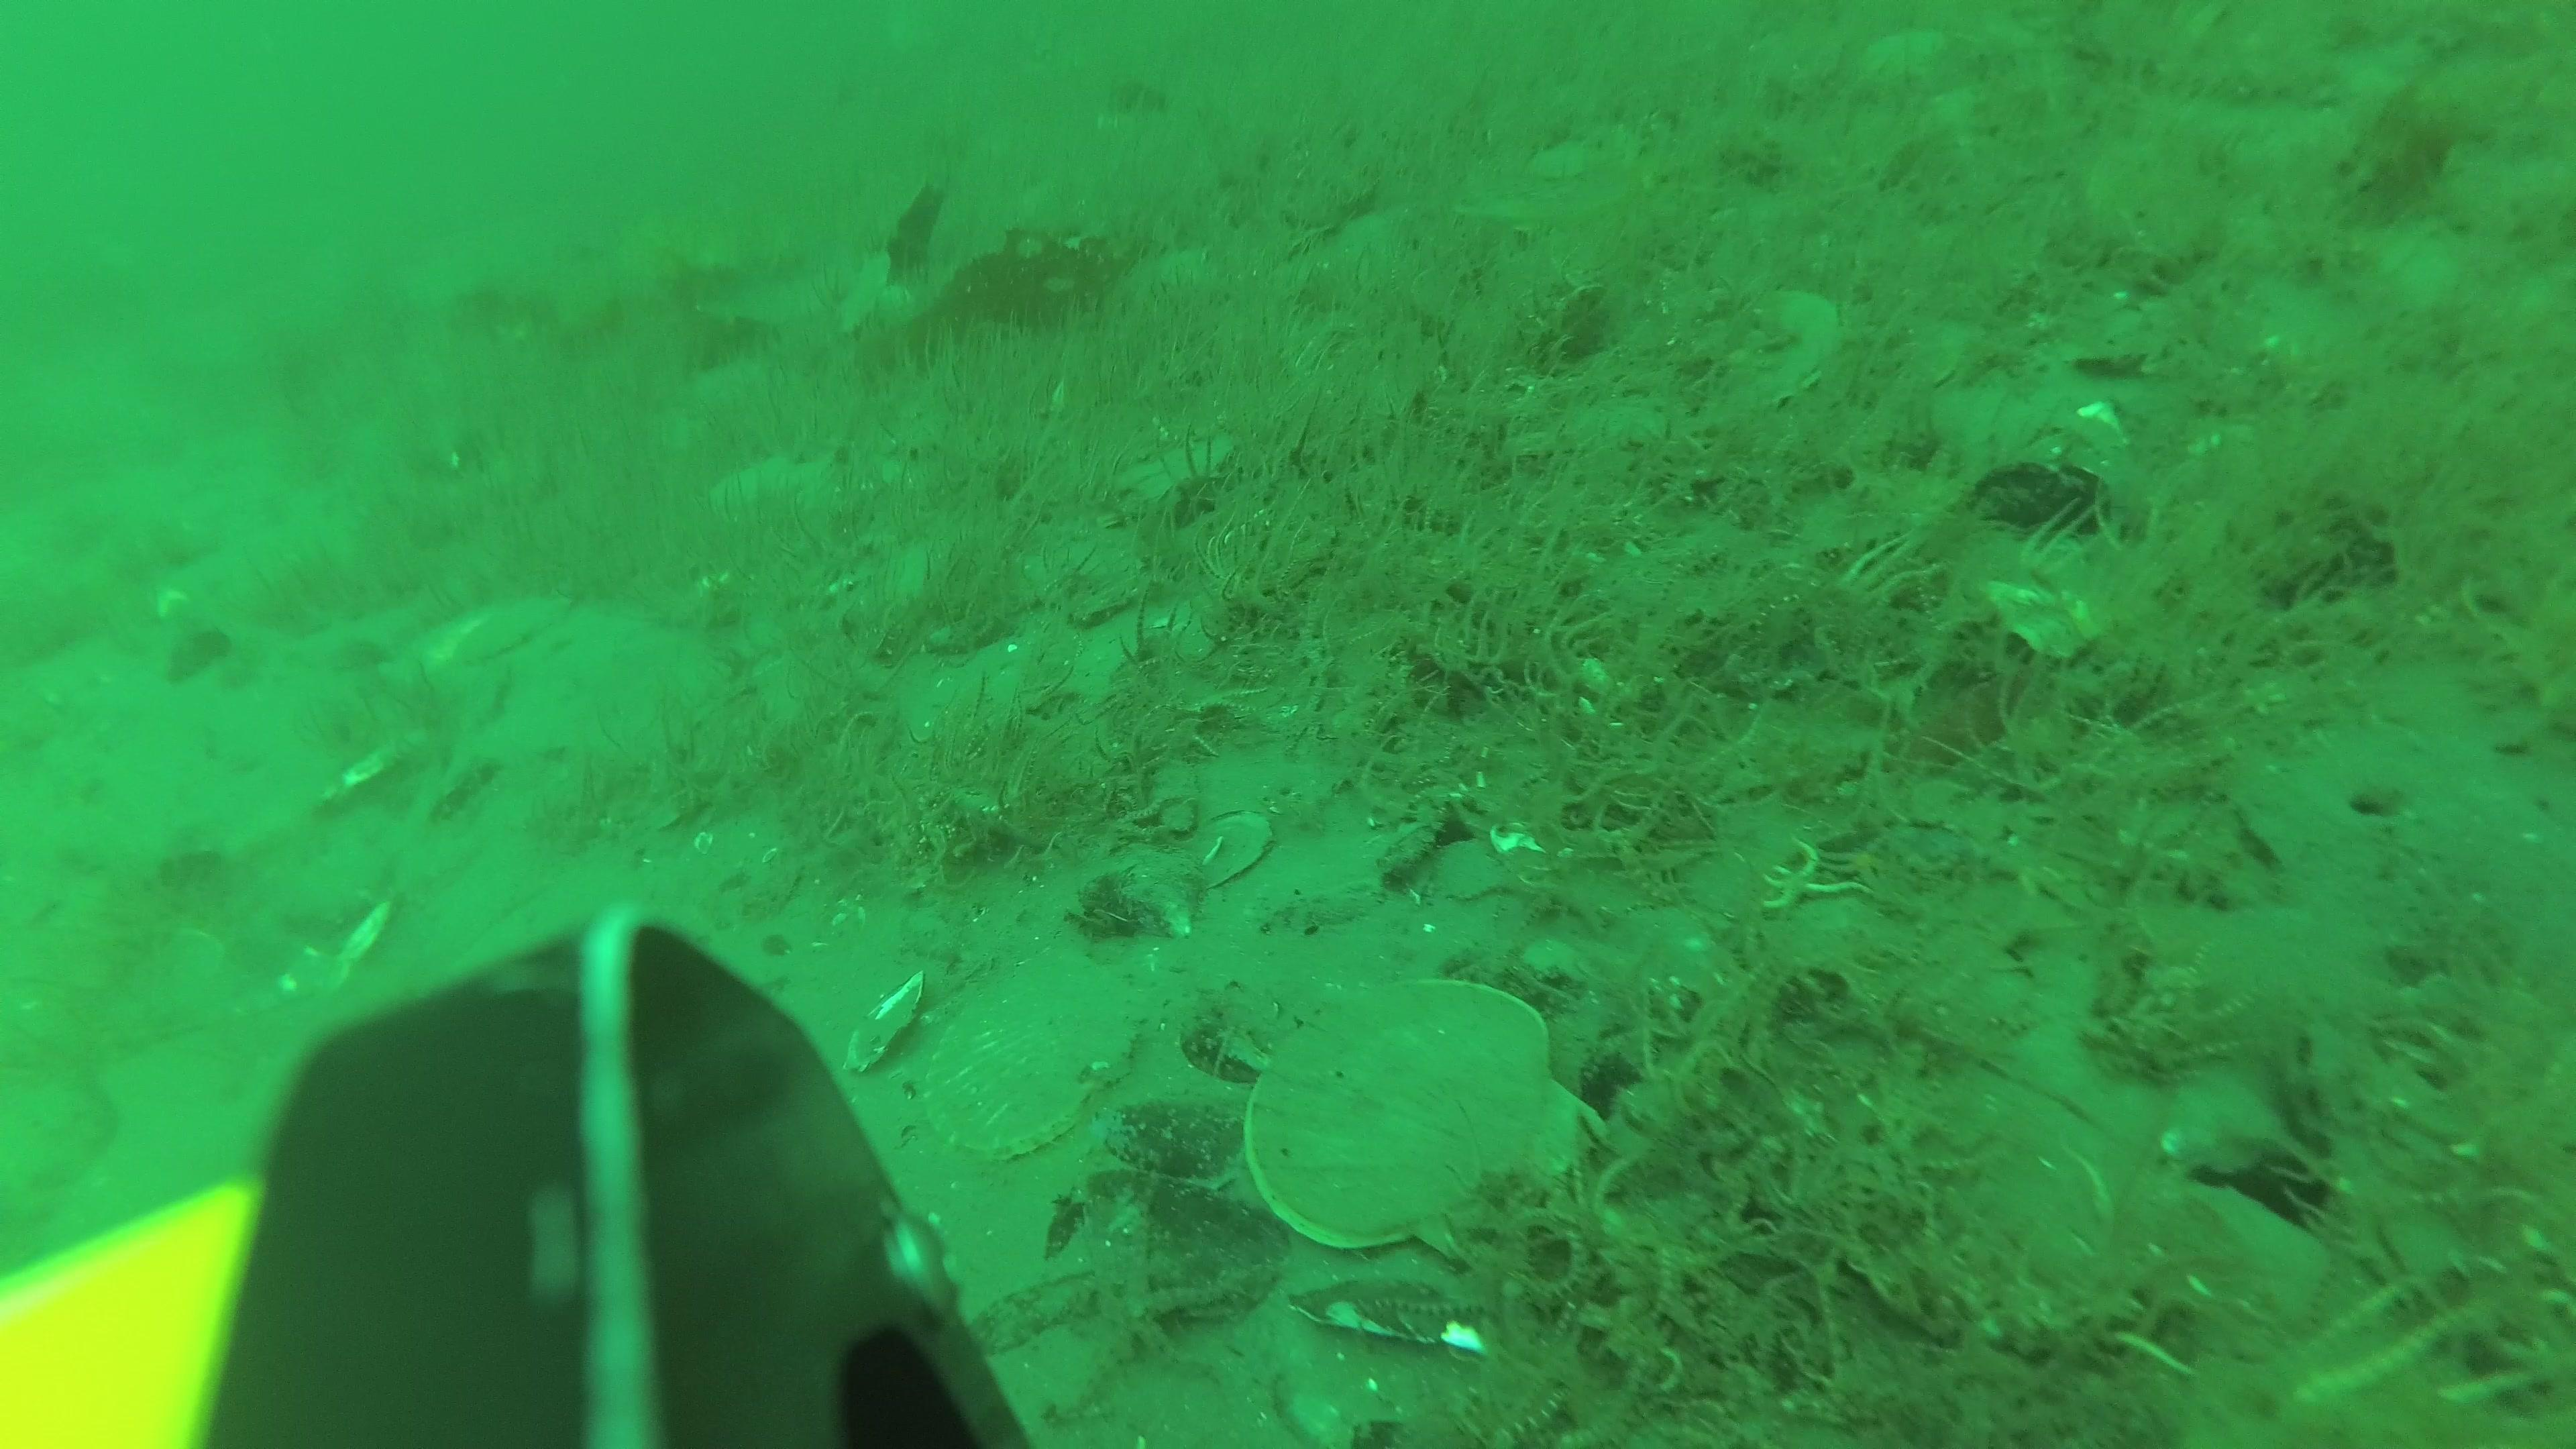scallop: (1251, 980, 1606, 1277), (925, 948, 1145, 1157), (1690, 288, 1854, 419), (384, 586, 575, 671), (702, 449, 830, 510)
